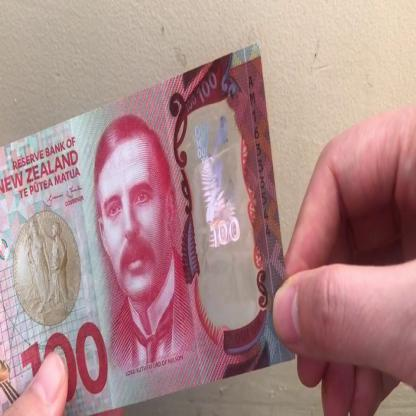100F: (193, 113, 255, 309)
